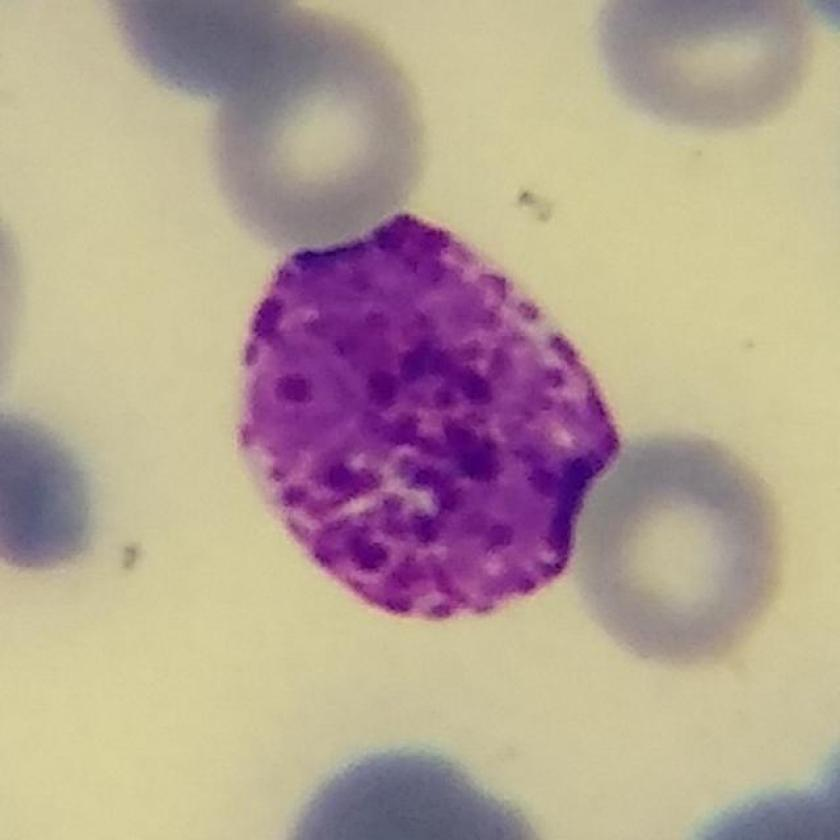basophil: (228, 211, 622, 627)
